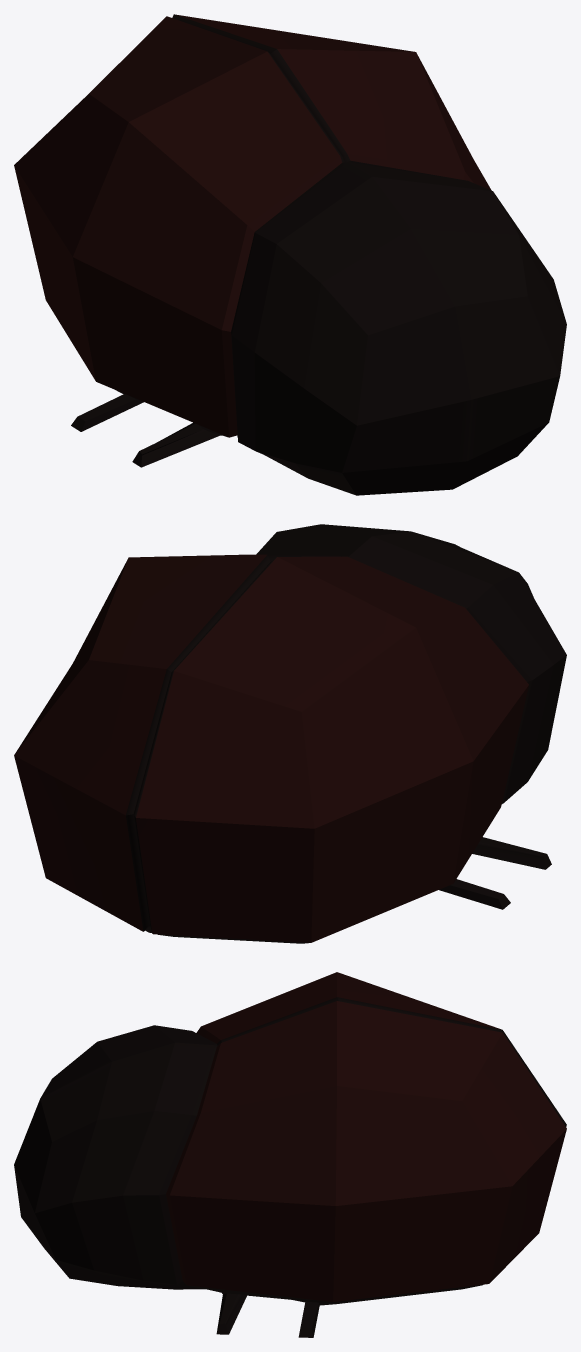
Rendered from JuneBug.fbx.
The picture shows the model from 3 angles, top to bottom: view 1: azimuth 30°, elevation 25°; view 2: azimuth 150°, elevation 25°; view 3: azimuth 270°, elevation 25°; orthographic projection. The views are drawn at different scales.
Visible parts, largest first — view 1: JuneBug_Body; view 2: JuneBug_Body; view 3: JuneBug_Body.
Part boxes in pixels (bbox=[...]): JuneBug_Body: bbox=[14, 14, 566, 495]; JuneBug_Body: bbox=[14, 524, 566, 943]; JuneBug_Body: bbox=[14, 972, 566, 1337].
Size of the model in its own units: 124 by 85.66 by 169.
